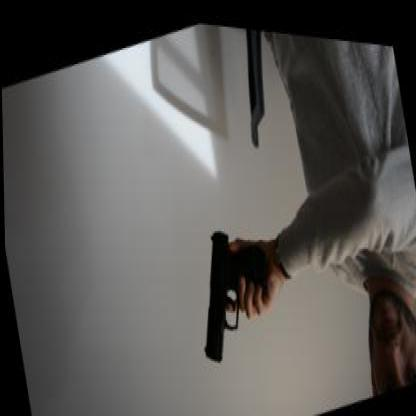pistol: (185, 202, 280, 367)
